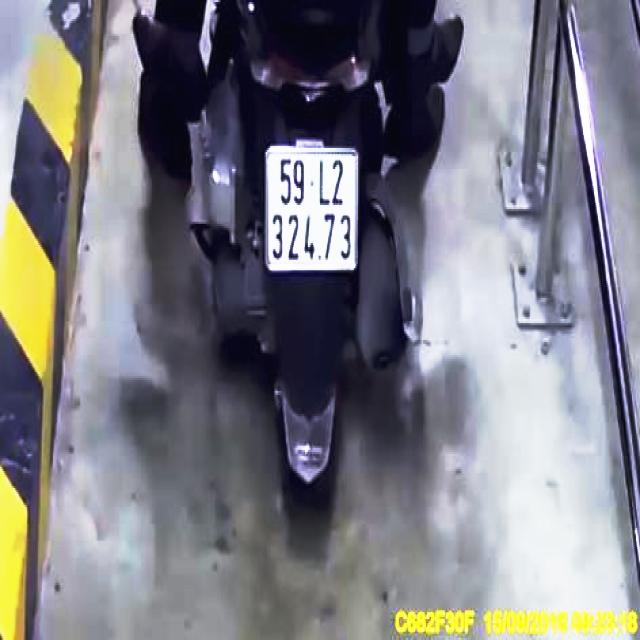license_plate: (266, 146, 359, 271)
